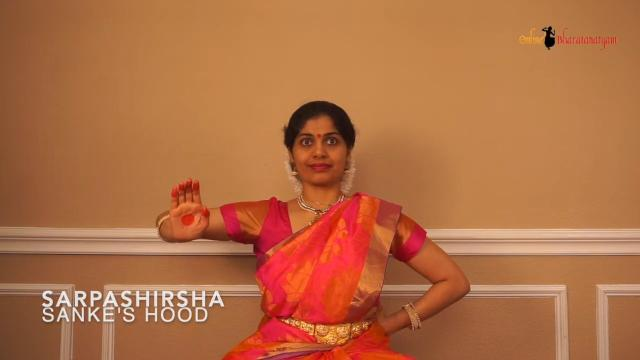sarpsheesh: (157, 164, 220, 255)
